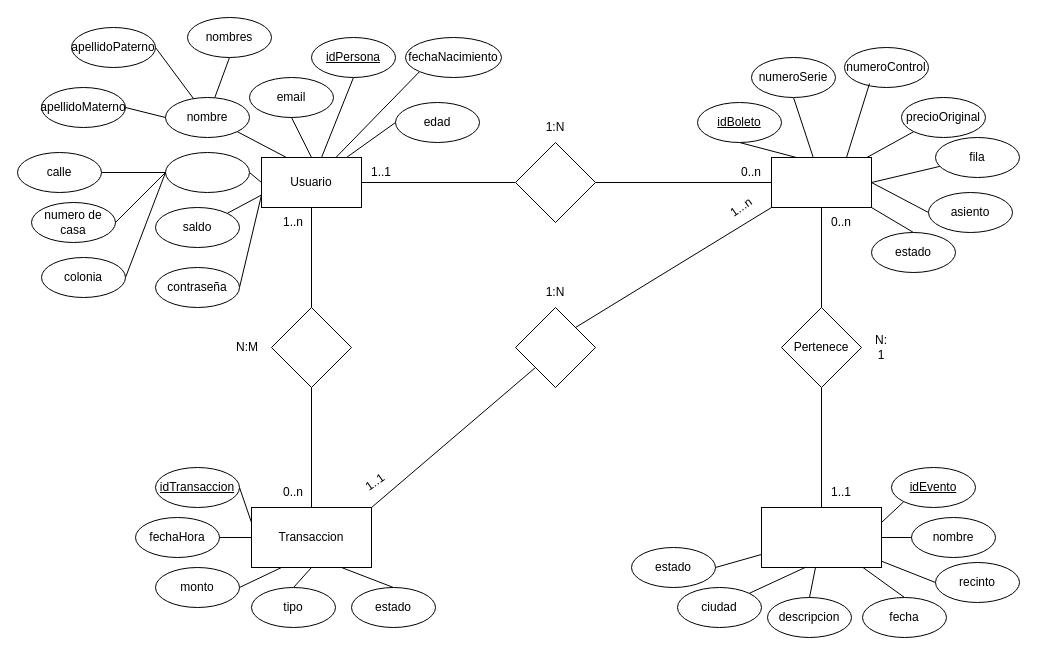
This 1037x655 diagram has some shape labels left out. Each missing label, with the box of its shape:
Boleto: (770, 156, 872, 208)
domicilio: (164, 152, 250, 192)
Evento: (760, 506, 882, 568)
Involucra: (514, 306, 596, 388)
Realiza: (270, 306, 352, 388)
Tiene: (514, 142, 596, 222)
